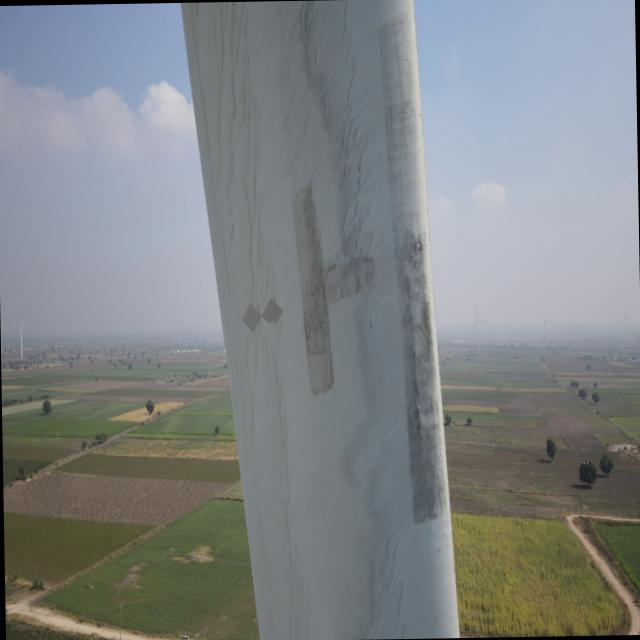Dirt: (177, 0, 465, 640)
